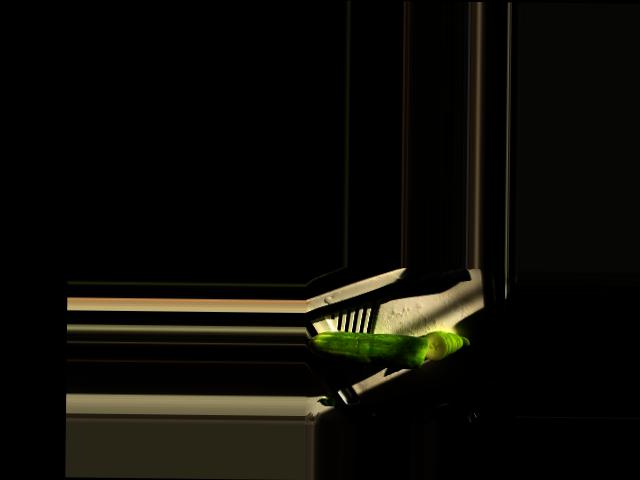cucumber: (308, 330, 429, 368)
